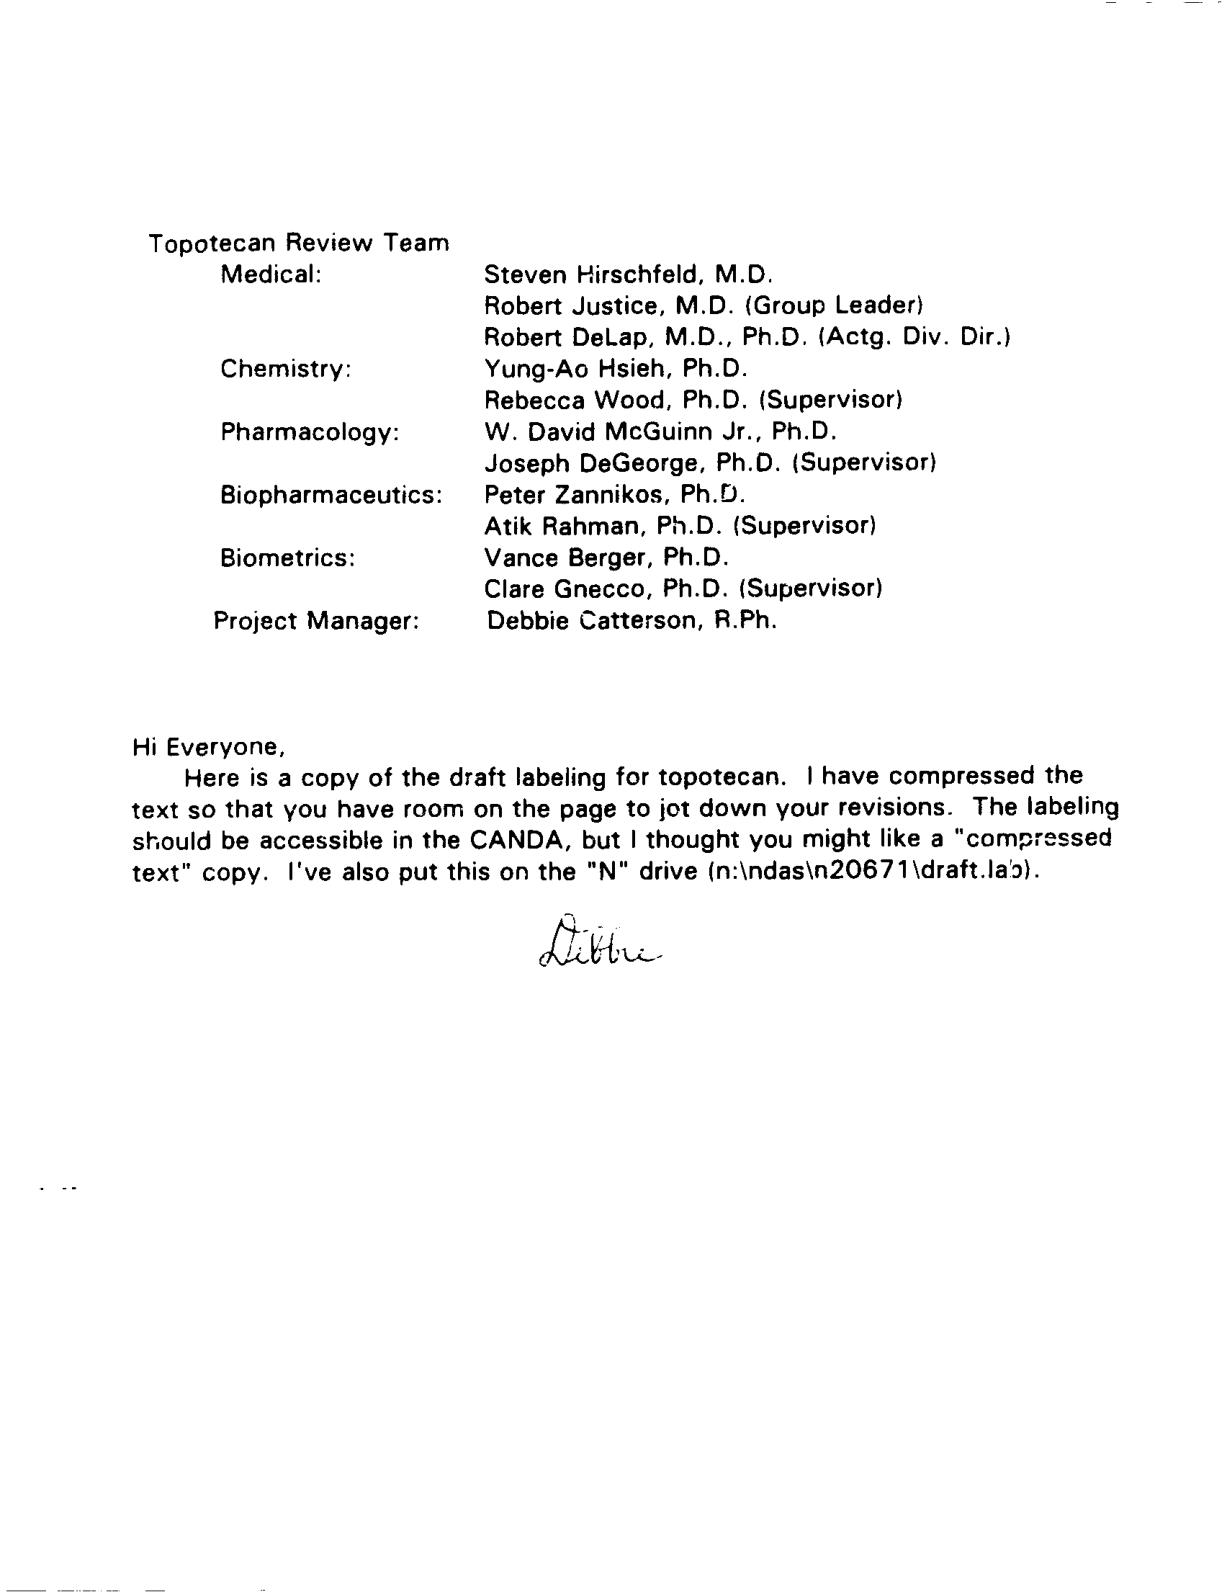nolines: (210, 258, 1017, 641)
